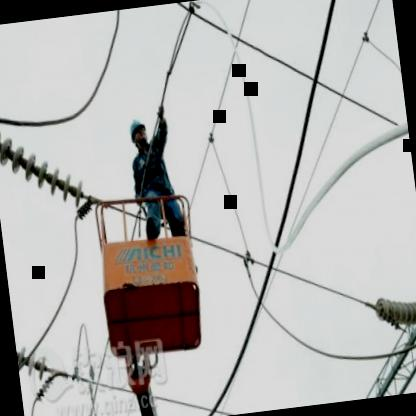helmet: (125, 114, 152, 154)
